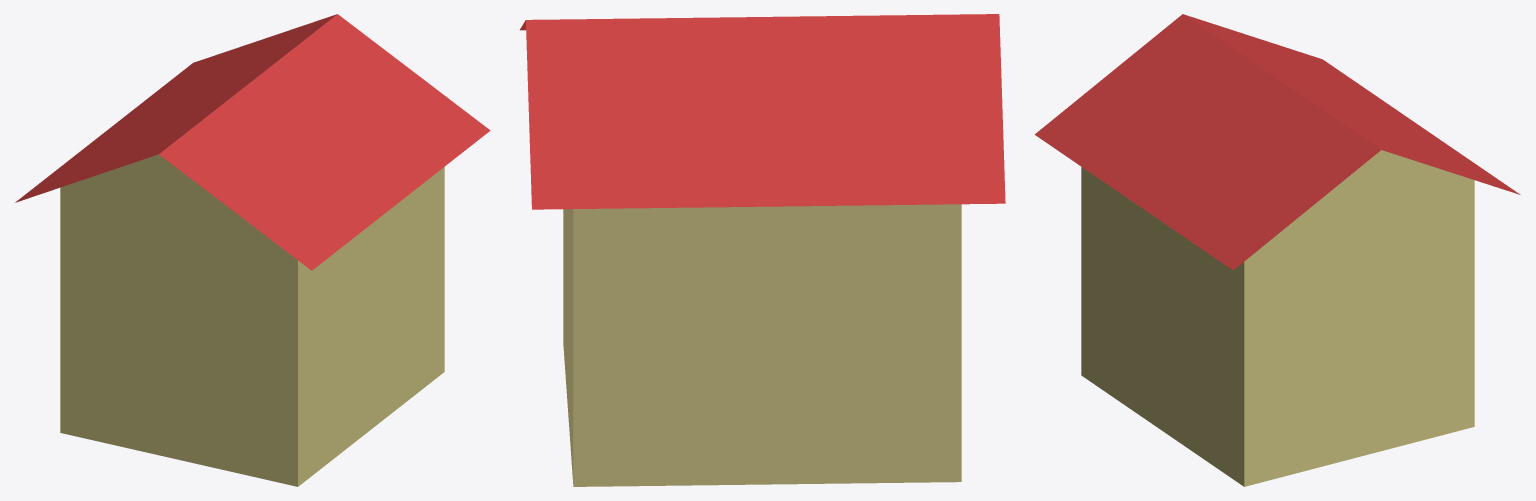
3 views of the same model, side by side, from view 1: azimuth 30°, elevation 25°; view 2: azimuth 150°, elevation 25°; view 3: azimuth 270°, elevation 25° (orthographic). The views are drawn at different scales.
Bounding box in the file's own units: 14.67 × 14.3 × 10.3.
